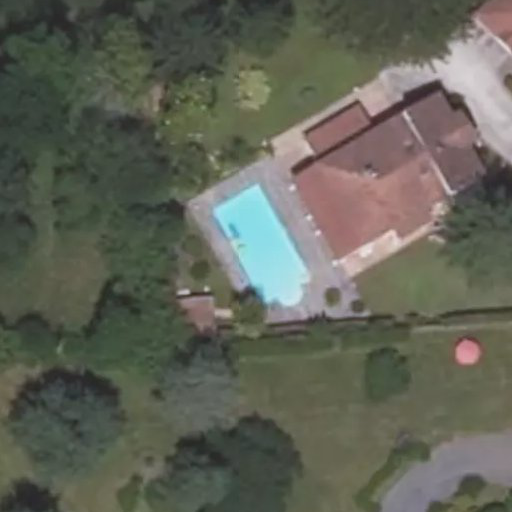pool: (205, 206, 312, 287)
